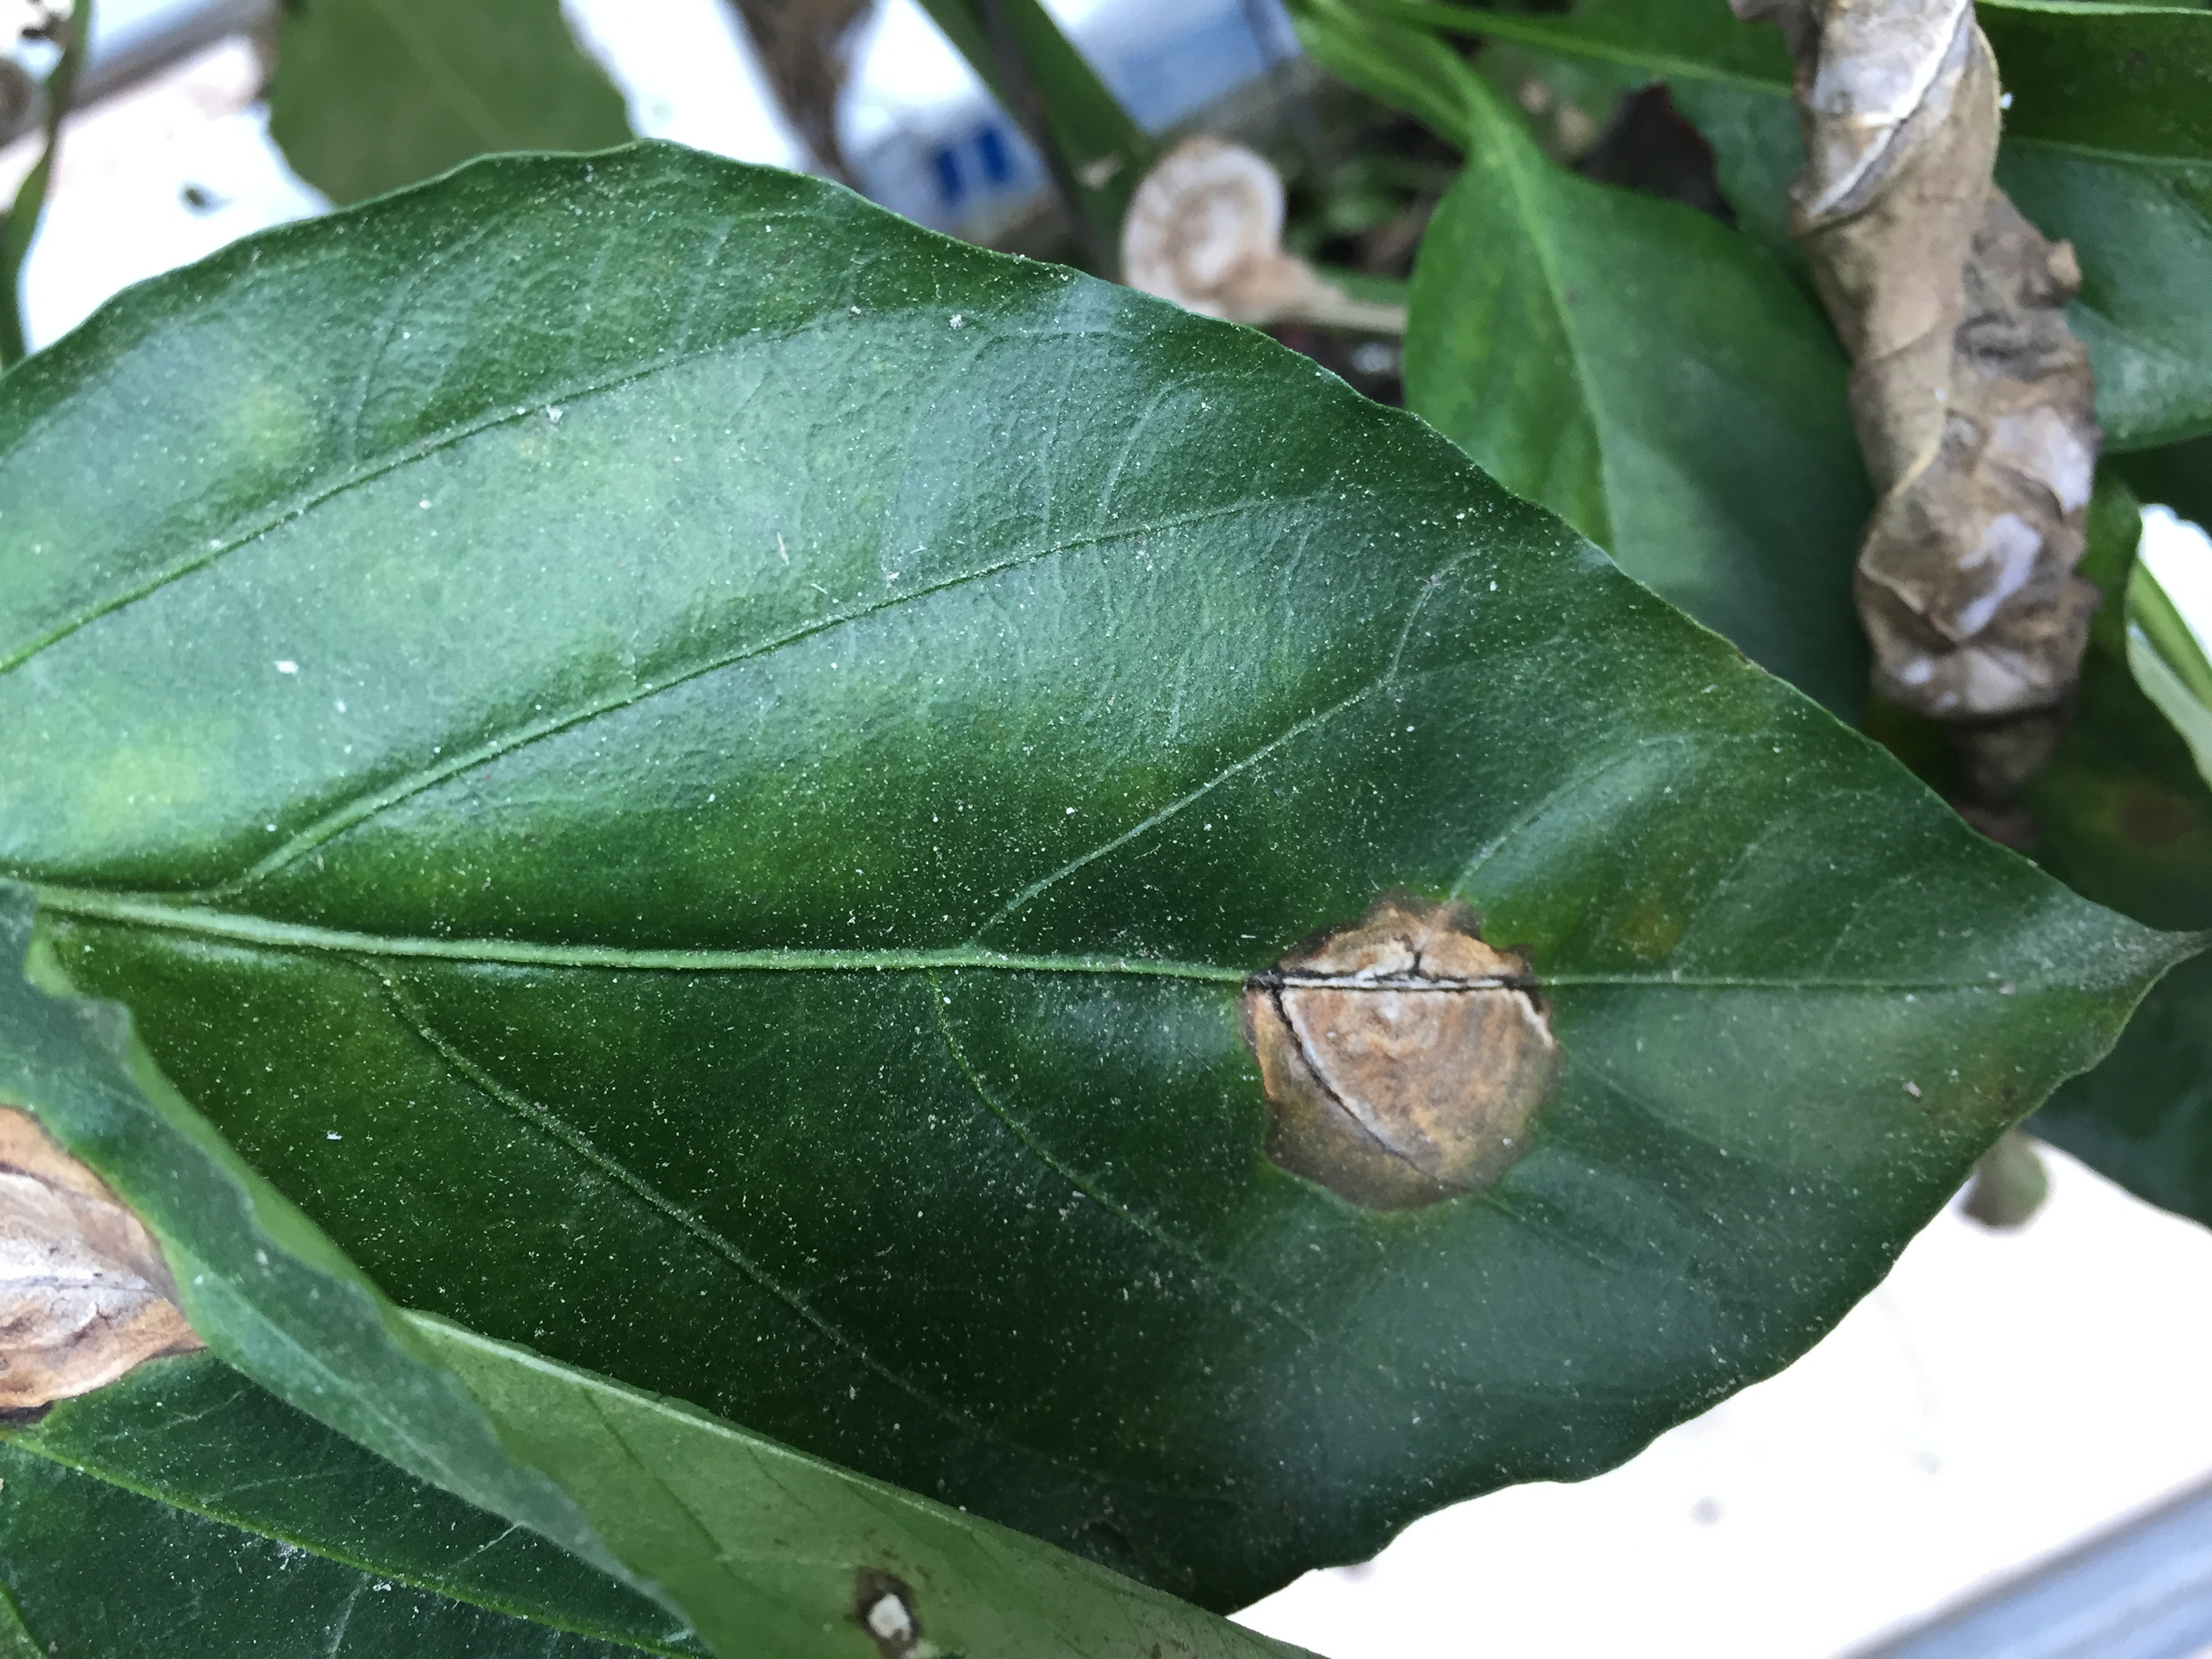spotting_disease: (1211, 861, 1583, 1227), (0, 1073, 232, 1455), (826, 1560, 977, 1659)
